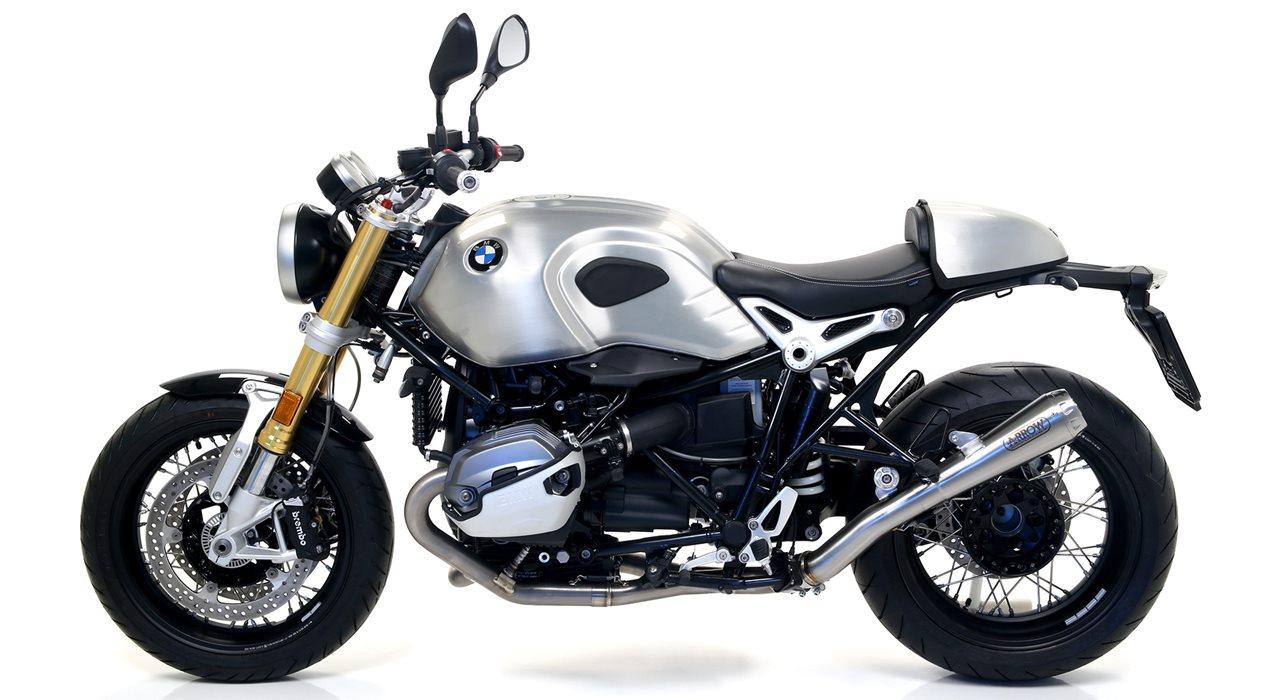engine-chasis: (417, 338, 799, 593), (784, 377, 844, 451), (783, 452, 827, 542)
exhaust: (771, 387, 1088, 597), (404, 467, 776, 607)
frontside: (159, 198, 512, 566)
handlebar: (316, 12, 530, 235)
motorbike: (81, 12, 1201, 682)
rearside: (733, 198, 1202, 561)
seat: (716, 206, 934, 319)
tank: (407, 194, 770, 368)
wheel: (850, 361, 1178, 682), (80, 391, 394, 682), (298, 343, 361, 489), (346, 346, 362, 413)
